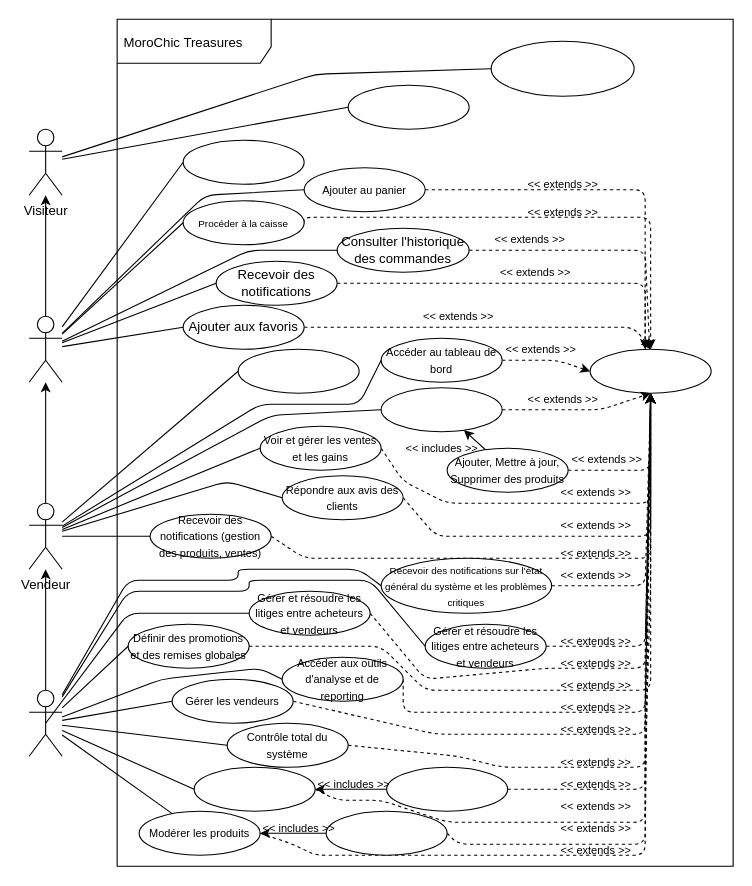
This 752x886 diagram has some shape labels left out. The shapes that lost their labels are listed below. From the top down, each one's centre as x and y in pixels, then its label:
At pixel 562 68: "Voir les détails d'un produit".
At pixel 408 106: "Parcourir les produits".
At pixel 243 161: "Créer un compte".
At pixel 45 348: "Acheteur".
At pixel 298 370: "S'inscrire en tant que vendeur".
At pixel 650 370: "AUTH".
At pixel 441 409: "Gérer les produits".
At pixel 45 722: "Admin".
At pixel 254 788: "Gérer les comptes utilisateurs".
At pixel 447 788: "Créer, Modifier, Désactiver des comptes".
At pixel 386 832: "Examiner et Gérer les listes de produits".
